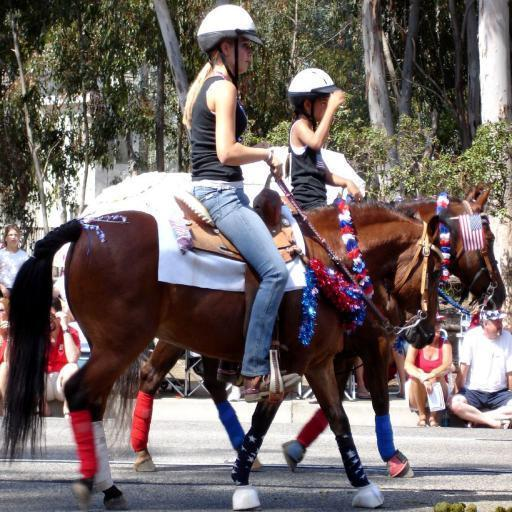horse: (0, 191, 443, 511), (98, 182, 506, 477)
